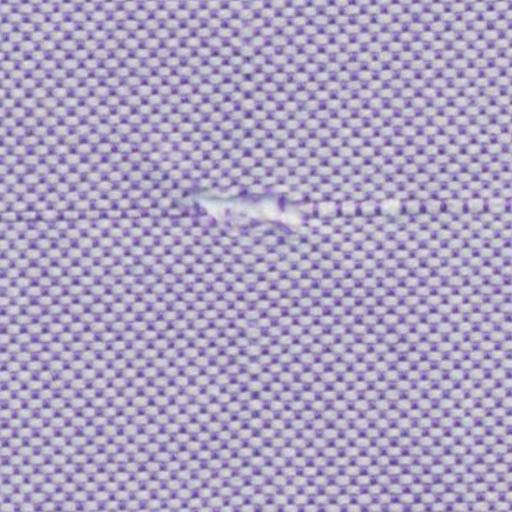PoDong: (164, 154, 324, 256)
